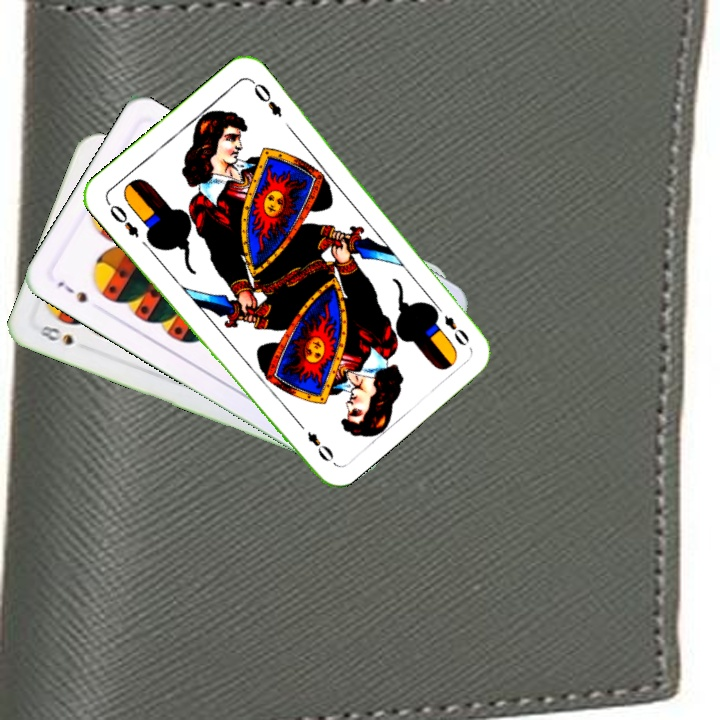EO: (429, 300, 472, 349), (102, 197, 142, 240)
S7: (53, 277, 90, 306)
S8: (35, 321, 76, 348)
